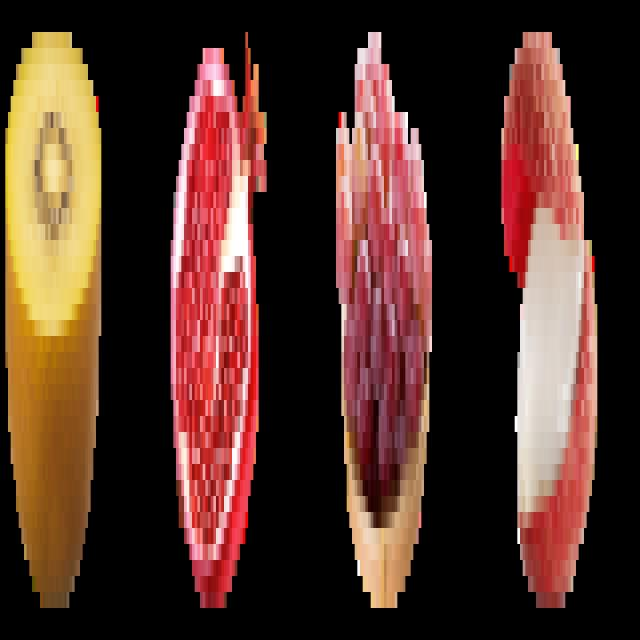grape: (330, 22, 435, 620)
kiwifruit: (3, 23, 102, 612)
lychee: (498, 9, 603, 618)
pomegranate: (170, 16, 270, 617)
